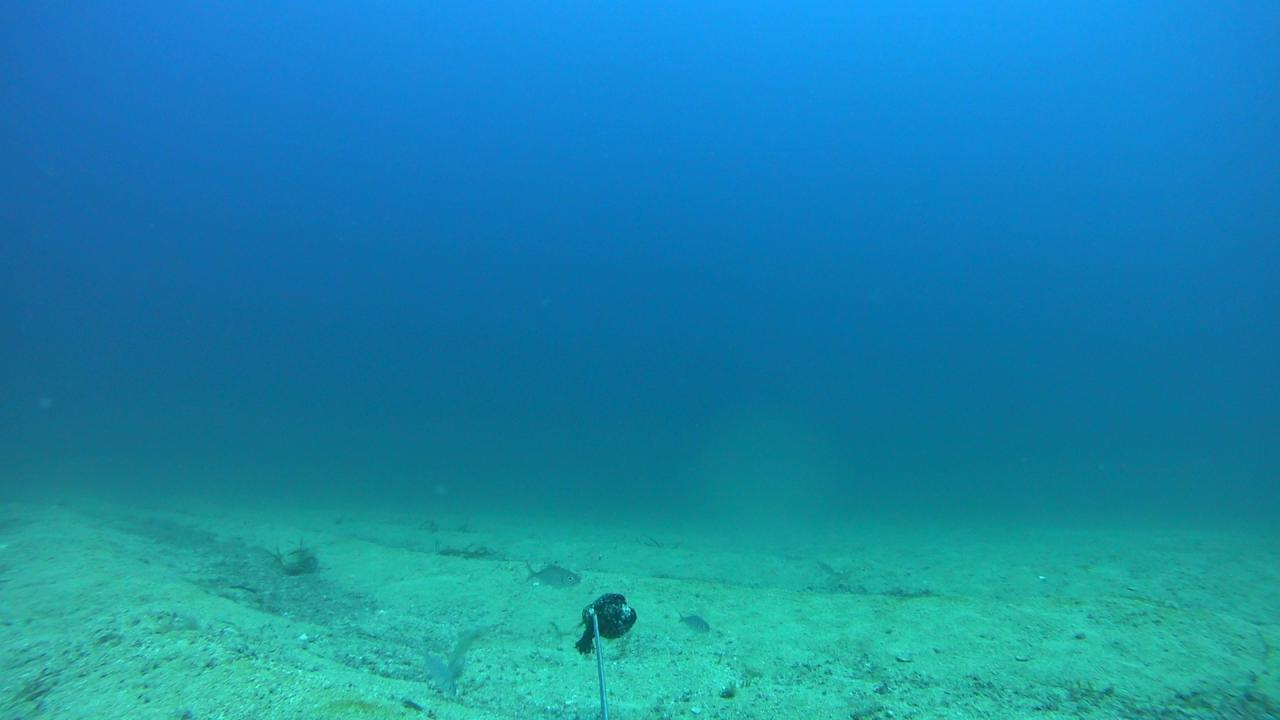pagellus: (414, 643, 458, 698), (525, 560, 580, 589), (674, 607, 709, 634)
